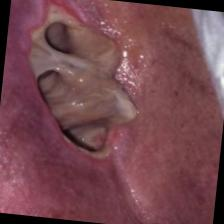pressure-wound: (0, 0, 154, 165)
